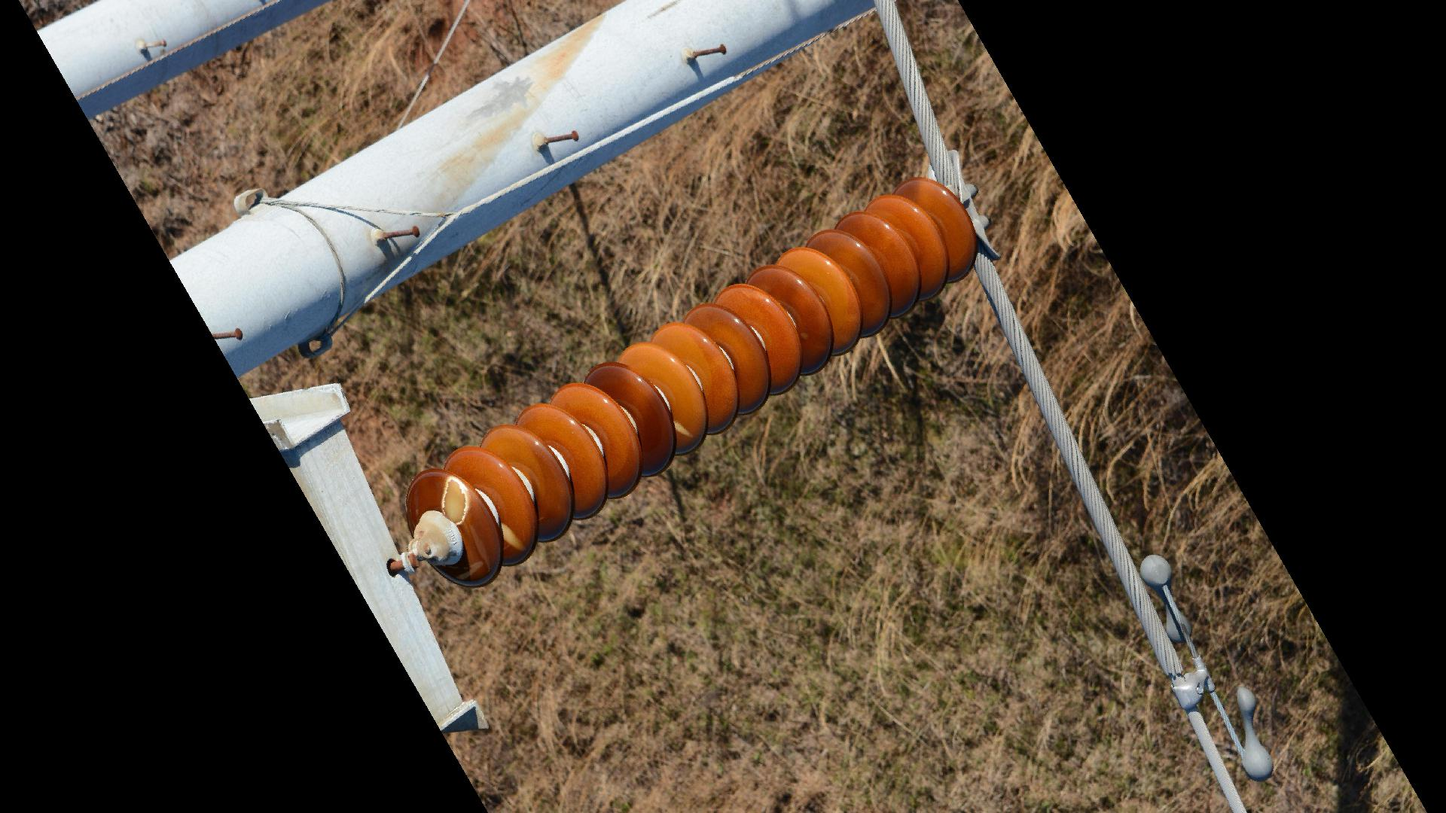insulator: (401, 172, 981, 593)
insulator_flashover: (439, 473, 473, 526), (497, 520, 526, 552), (671, 417, 697, 441)
